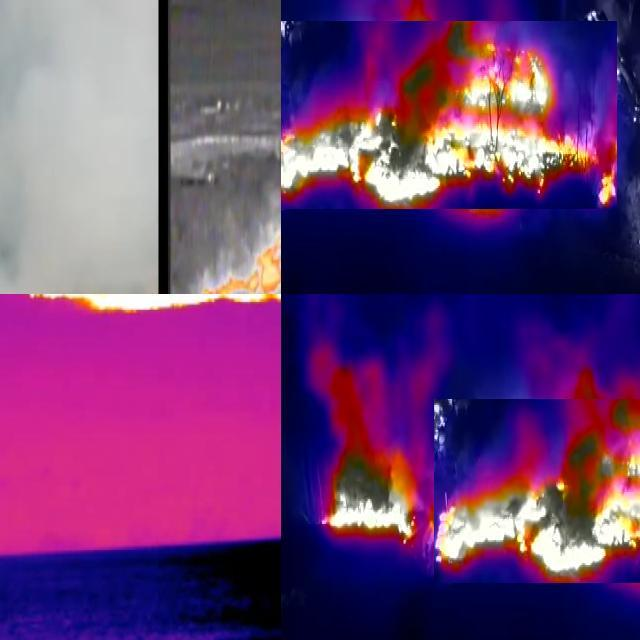fire: (282, 21, 617, 209), (434, 399, 640, 583), (318, 382, 423, 542), (28, 296, 283, 319), (194, 236, 282, 295)
